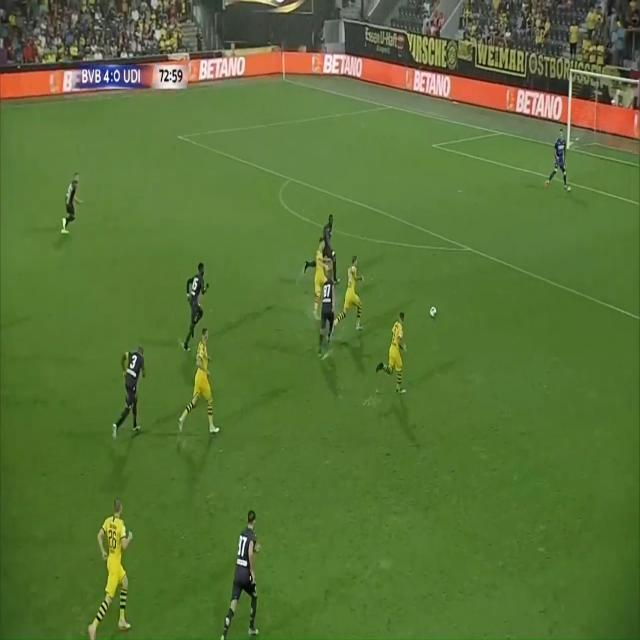ball: (427, 306, 441, 323)
goalkeeper: (546, 123, 574, 198)
player: (94, 492, 148, 640), (224, 511, 270, 640), (179, 329, 221, 438), (113, 340, 148, 448), (375, 305, 411, 406), (181, 256, 211, 363), (334, 252, 367, 349), (307, 206, 345, 276), (315, 272, 344, 348), (59, 168, 87, 243), (315, 228, 330, 317)
